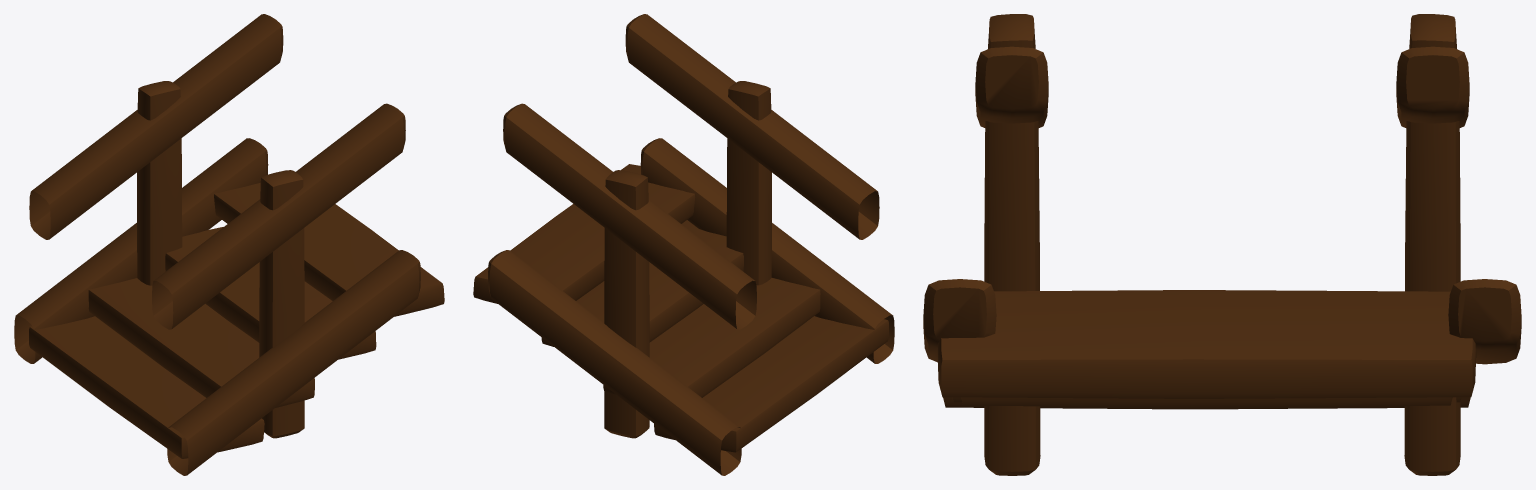
The model's file is Stairs_Modular_End.obj.
The picture shows the model from 3 angles, left to right: view 1: azimuth 30°, elevation 25°; view 2: azimuth 150°, elevation 25°; view 3: azimuth 270°, elevation 25°; orthographic projection. The views are drawn at different scales.
Visible parts, largest first — view 1: Stairs_Modular_End_Cube.061; view 2: Stairs_Modular_End_Cube.061; view 3: Stairs_Modular_End_Cube.061.
Part boxes in pixels (x1,y1,x2,y2): Stairs_Modular_End_Cube.061: [14, 14, 444, 475]; Stairs_Modular_End_Cube.061: [473, 14, 894, 475]; Stairs_Modular_End_Cube.061: [923, 14, 1521, 475].
Size of the model in its own units: 2.26 by 2.42 by 2.56.
